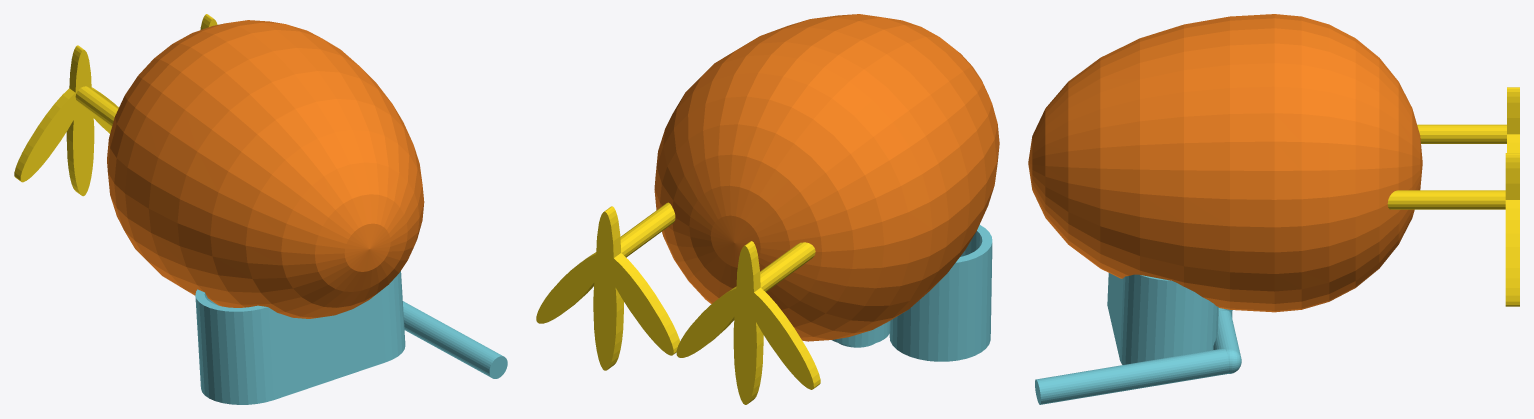
File: tinker.obj
3 views of the same model, side by side, from view 1: azimuth 30°, elevation 25°; view 2: azimuth 150°, elevation 25°; view 3: azimuth 270°, elevation 25° (orthographic). The views are drawn at different scales.
Visible parts, largest first — view 1: group_0_16089887, group_0_7720667, group_0_16768282; view 2: group_0_16089887, group_0_16768282, group_0_7720667; view 3: group_0_16089887, group_0_7720667, group_0_16768282.
Part boxes in pixels (x1,y1,x2,y2): group_0_16089887: (107,20,424,318); group_0_7720667: (195,271,507,404); group_0_16768282: (14,14,217,196); group_0_16089887: (654,14,999,341); group_0_16768282: (536,202,820,404); group_0_7720667: (832,225,992,361); group_0_16089887: (1028,14,1422,312); group_0_7720667: (1035,273,1241,404); group_0_16768282: (1387,87,1519,306).
Bounding box in the file's own units: 50.32 × 53 × 76.
